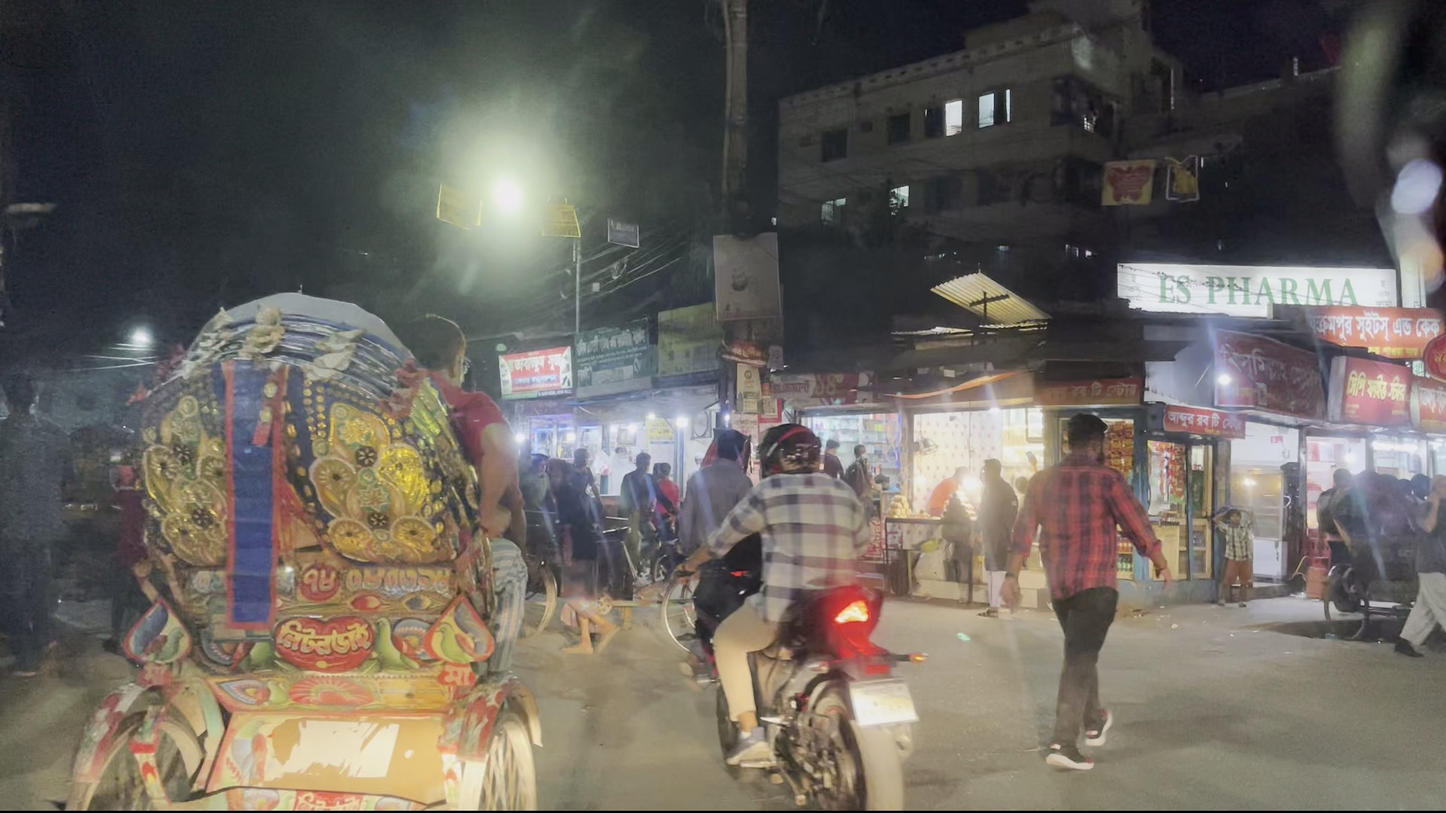person: (56, 293, 592, 794), (693, 371, 901, 808), (1008, 404, 1173, 735), (663, 408, 778, 693), (1, 370, 70, 688), (949, 455, 1032, 616), (1206, 493, 1260, 632), (619, 442, 667, 531), (523, 442, 562, 525)
